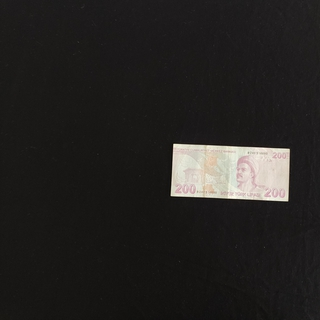200TLBack: (170, 143, 290, 201)
